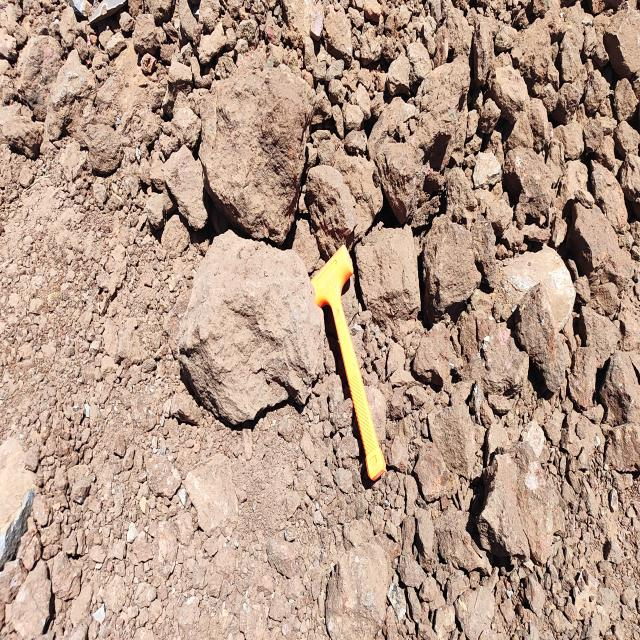Orange_hammer: (310, 243, 387, 483)
